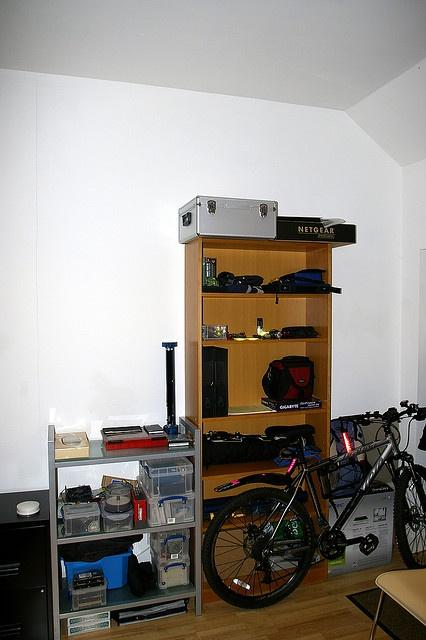Rak: (197, 236, 332, 528), (45, 415, 202, 639)
